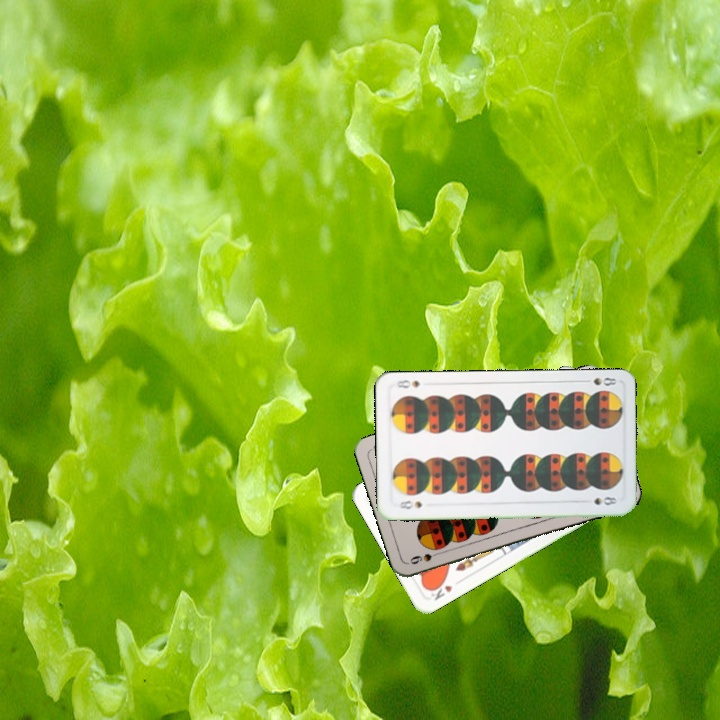HK: (425, 577, 455, 603)
S8: (578, 374, 619, 388), (395, 496, 424, 512)
S9: (406, 547, 445, 567)
